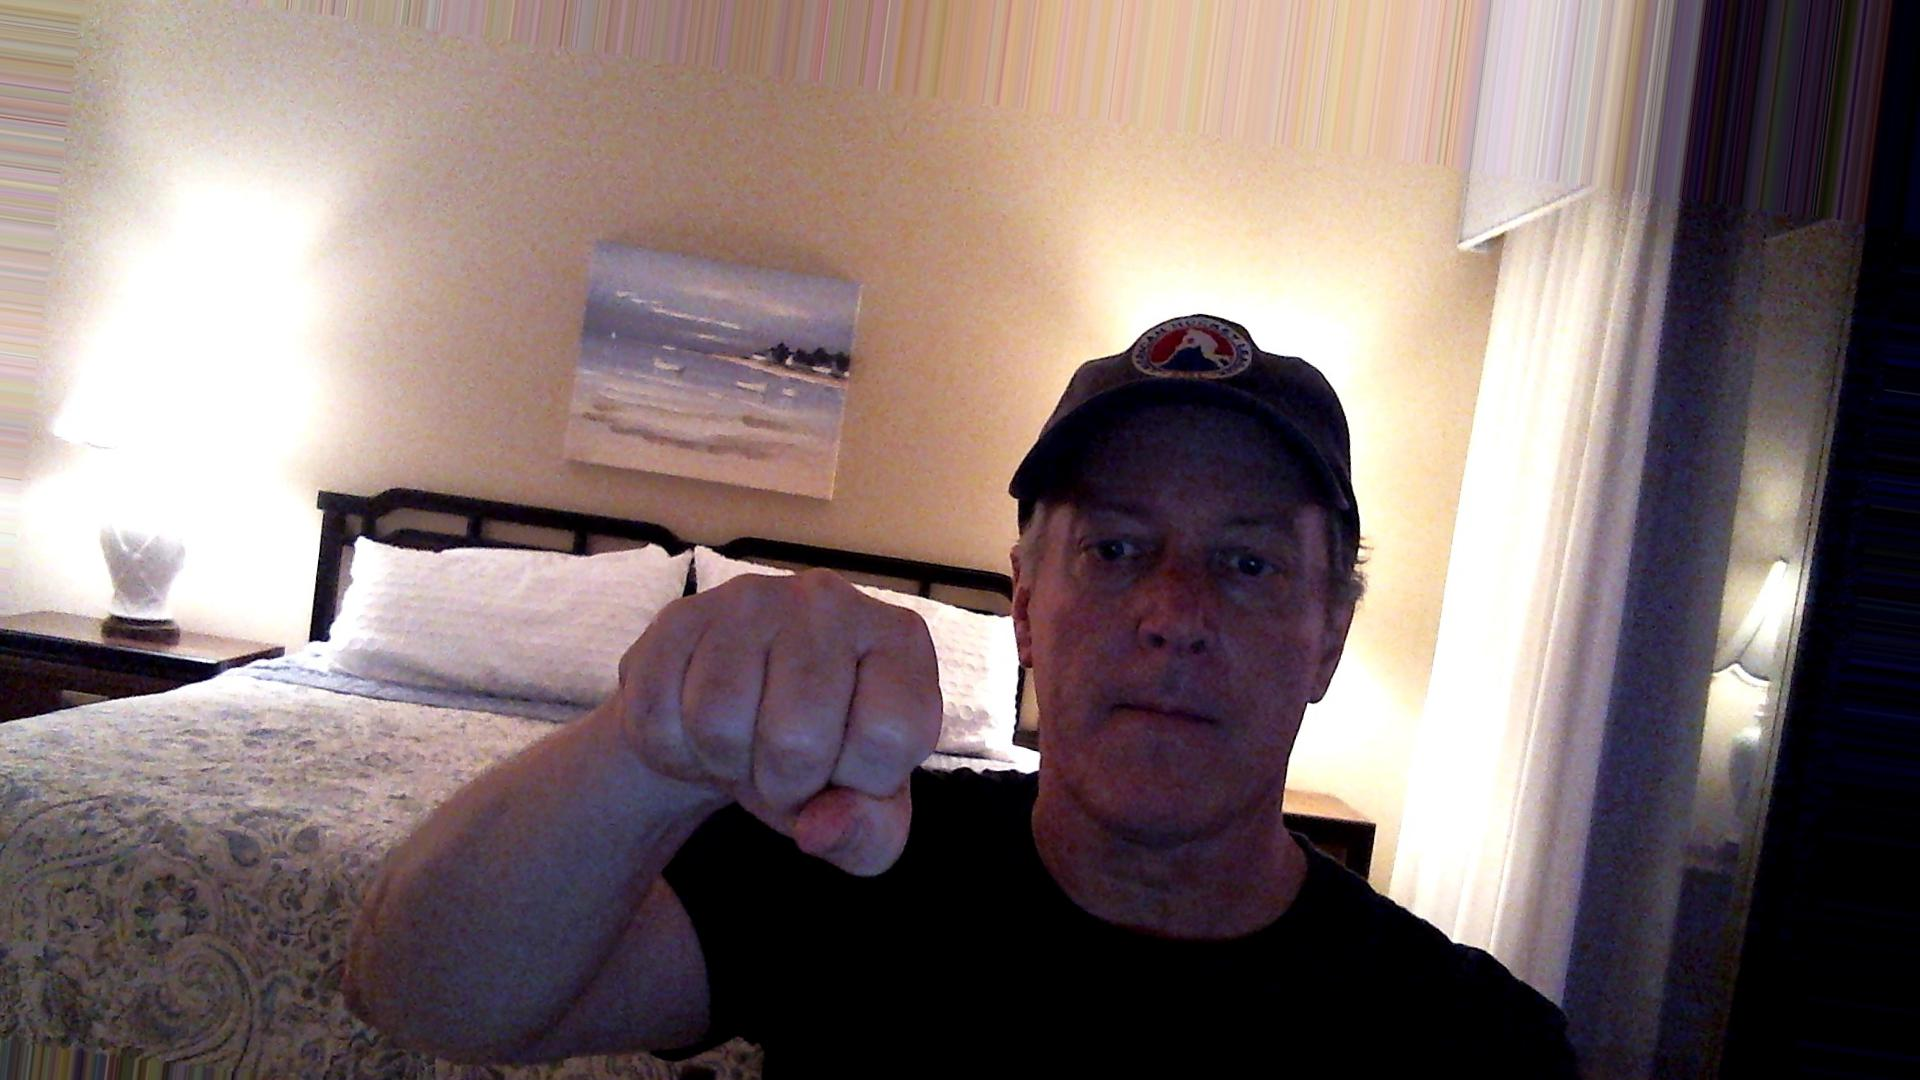Yes: (593, 542, 947, 905)
